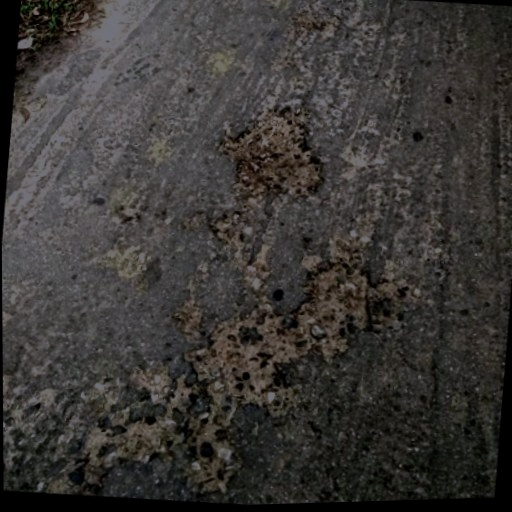pothole: (209, 97, 331, 208), (181, 295, 296, 412), (287, 253, 381, 364)
